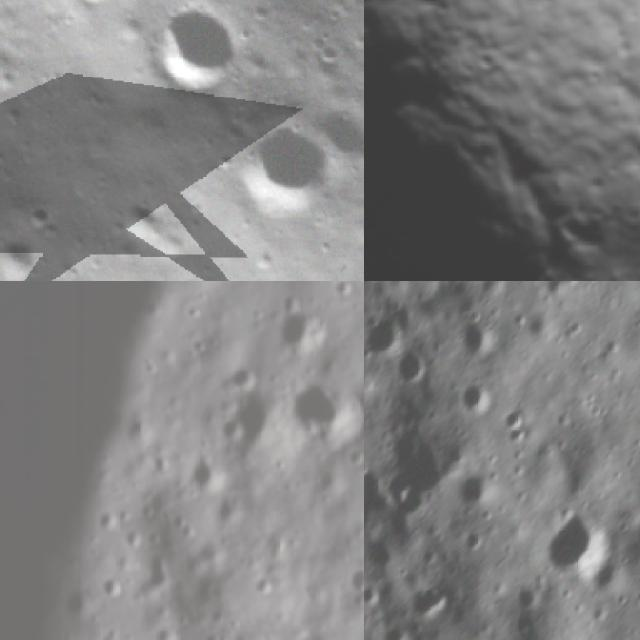crater: (210, 99, 359, 247), (118, 0, 274, 124), (402, 0, 640, 81), (296, 76, 364, 187), (535, 506, 611, 586), (283, 372, 364, 445), (212, 384, 284, 459), (0, 222, 51, 281), (410, 574, 462, 624), (275, 311, 326, 356), (452, 469, 498, 518), (52, 0, 133, 27), (364, 304, 403, 356), (452, 314, 494, 356), (184, 455, 229, 494), (140, 548, 174, 595), (391, 347, 429, 388), (88, 500, 130, 536), (459, 377, 496, 415), (377, 609, 418, 640), (212, 490, 244, 524), (225, 360, 261, 390), (216, 414, 248, 446), (272, 282, 303, 314), (100, 570, 130, 600), (248, 573, 282, 599), (344, 562, 364, 591), (148, 449, 170, 475), (185, 299, 207, 322), (343, 443, 364, 466), (331, 281, 355, 299), (128, 522, 144, 548), (346, 586, 364, 609)
